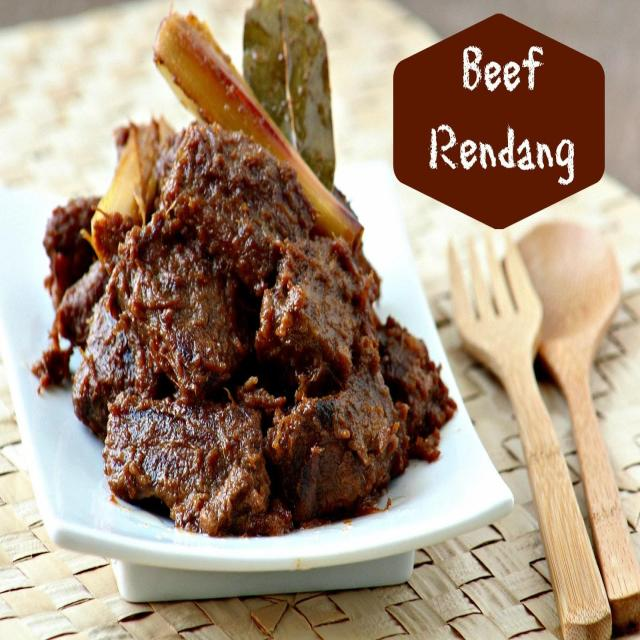Rendang: (40, 95, 456, 557)
